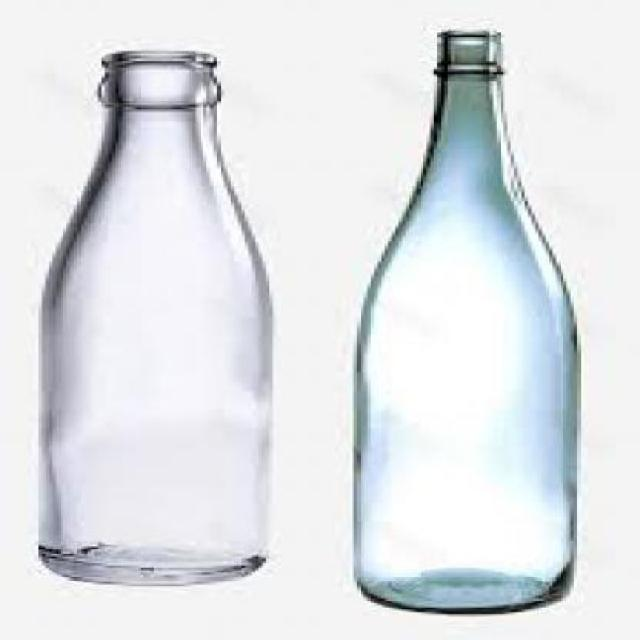kaca: (346, 29, 574, 616), (35, 49, 266, 582)
